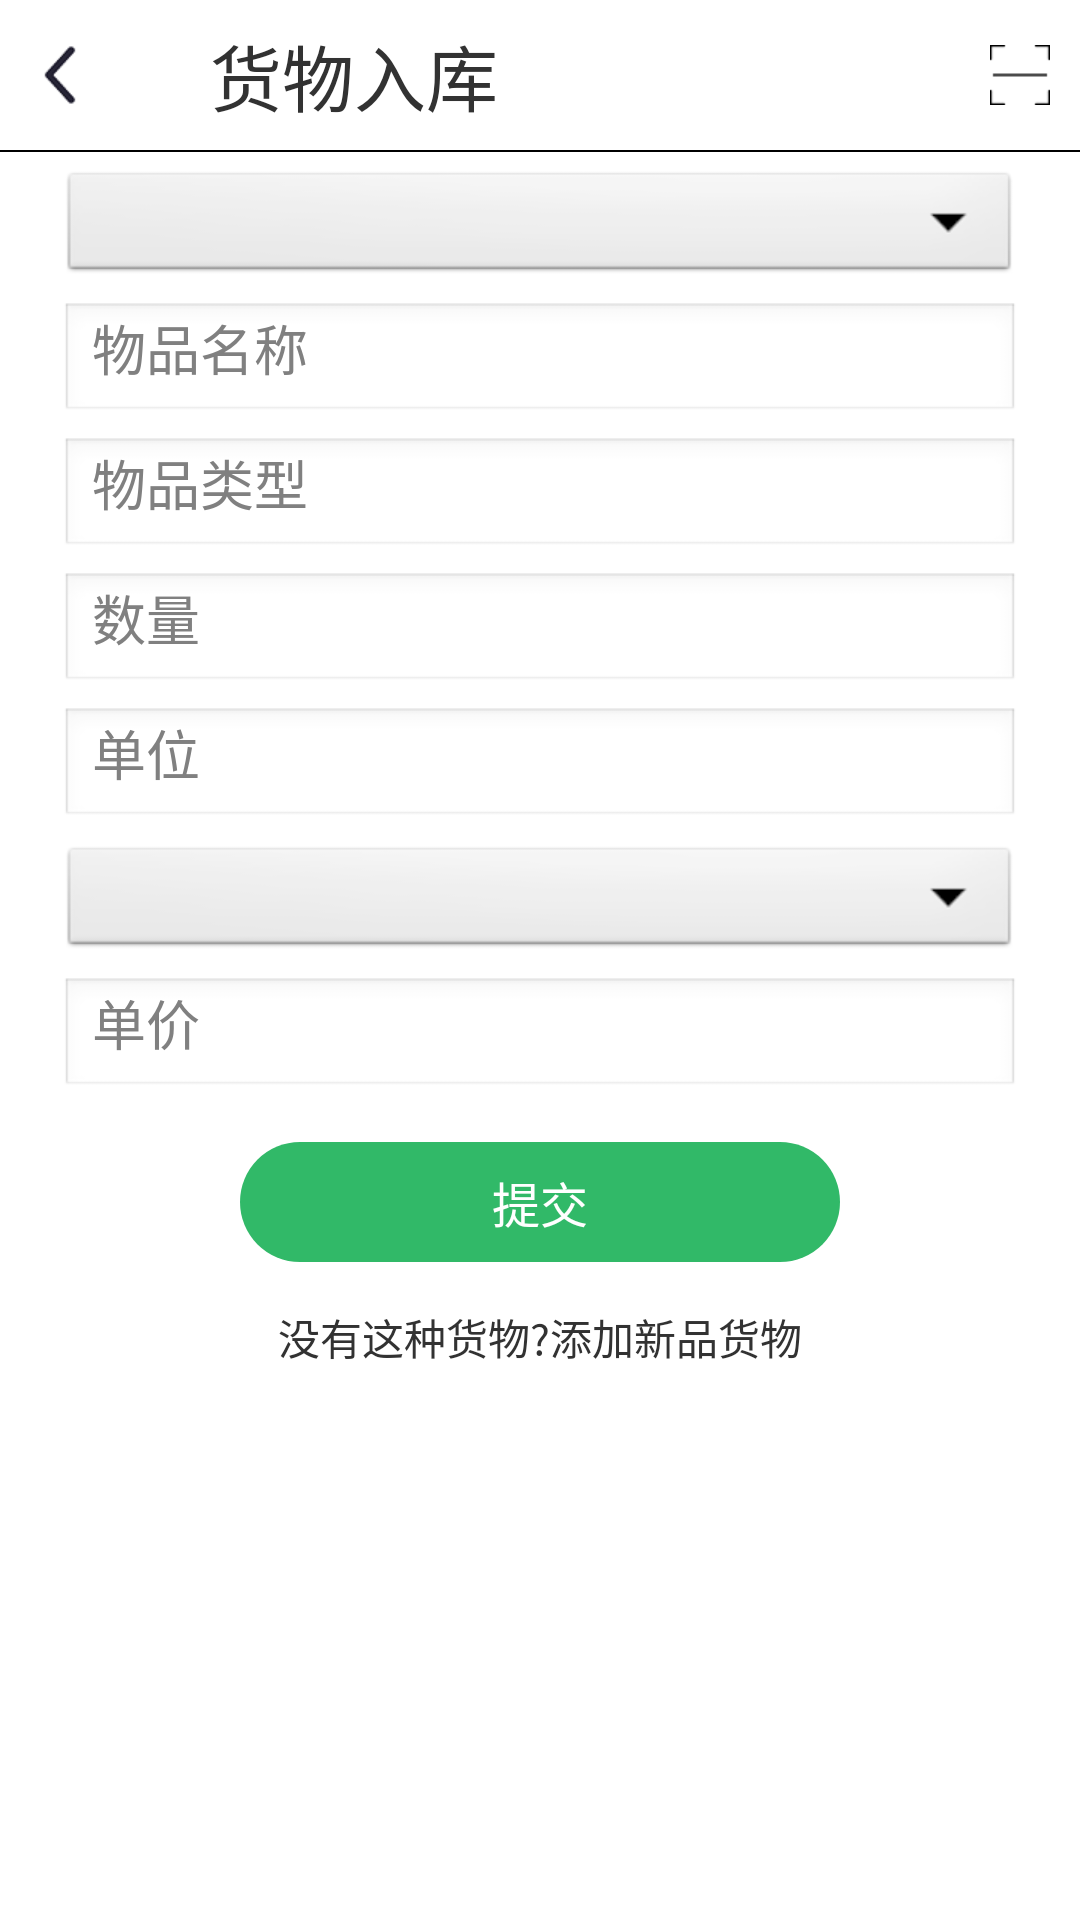

Icon click points for this 1080×1920 phone screenshot, format point (x, y):
arrow back: point (60, 75)
saoma: point (1020, 75)
